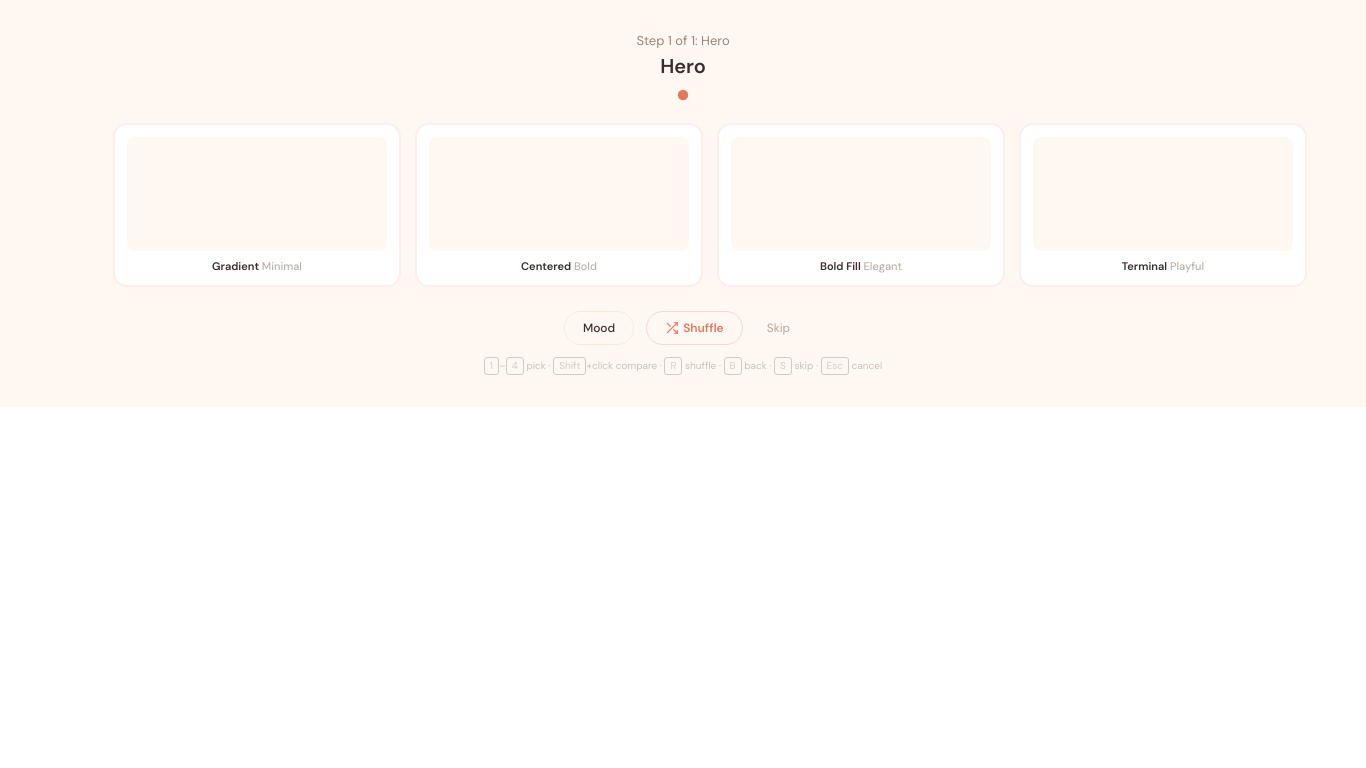
it: PickyOverlay › Shift+click on two cards shows compare overlay
The width and height of the screenshot is (1366, 768).
Shift+click two cards
Click the button with class "tp-picky-card" showing "Gradient Minimal": (257, 205) [113, 123, 401, 287]
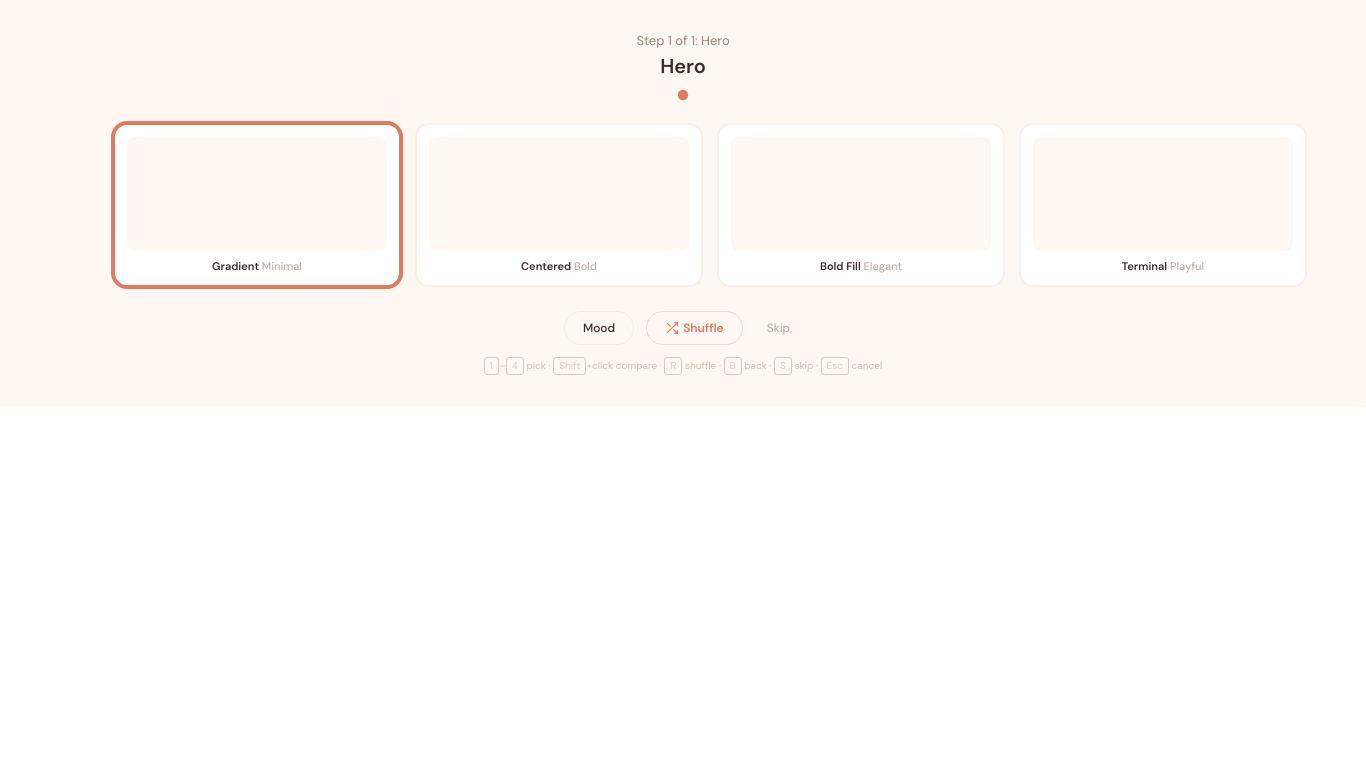
Click the button with class "tp-picky-card" showing "Bold fill Elegant": (861, 205) [717, 123, 1005, 287]
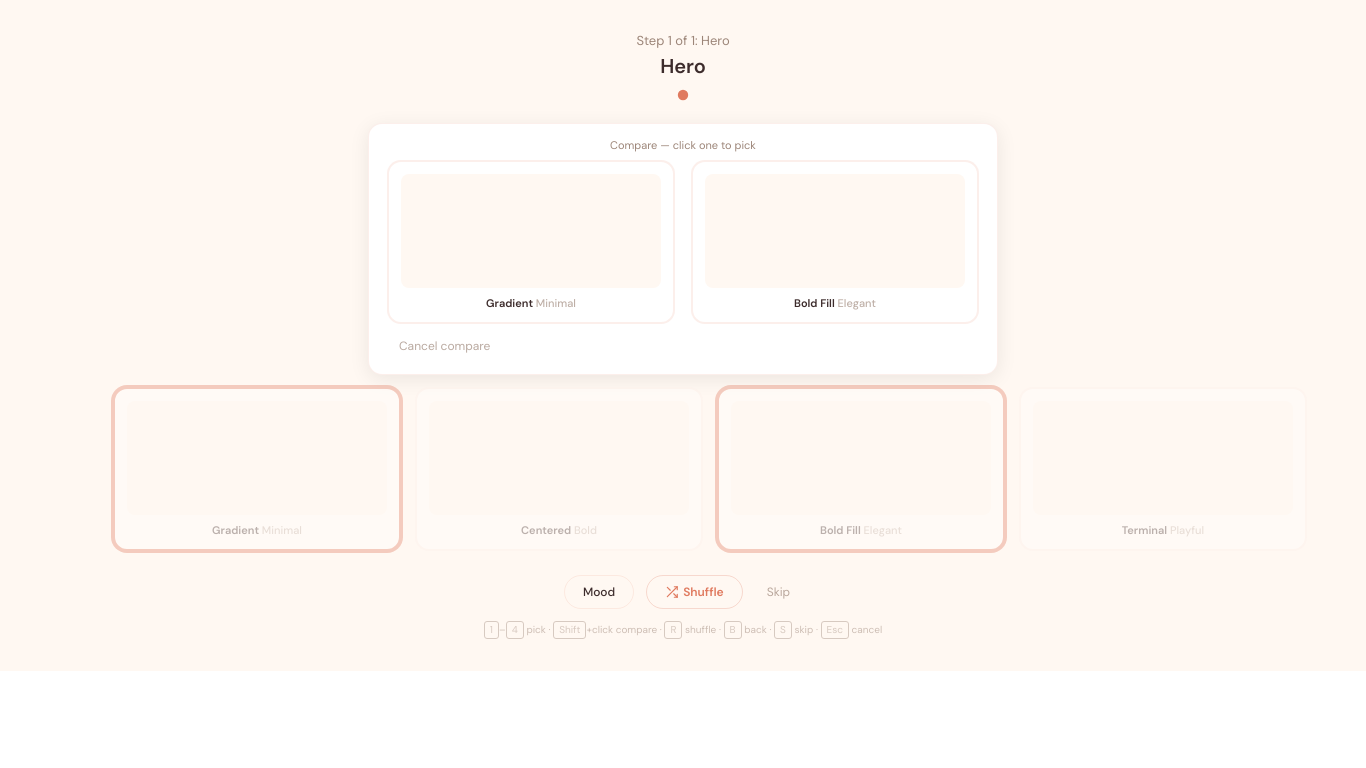
Expected: the element with class "tp-picky-compare" is shown, [368, 123, 998, 375]
Expected: the text "Compare — click one to pick" is shown, [610, 138, 756, 152]
Expected: the element with class "tp-picky-options--dimmed" is shown, [113, 387, 1253, 551]
